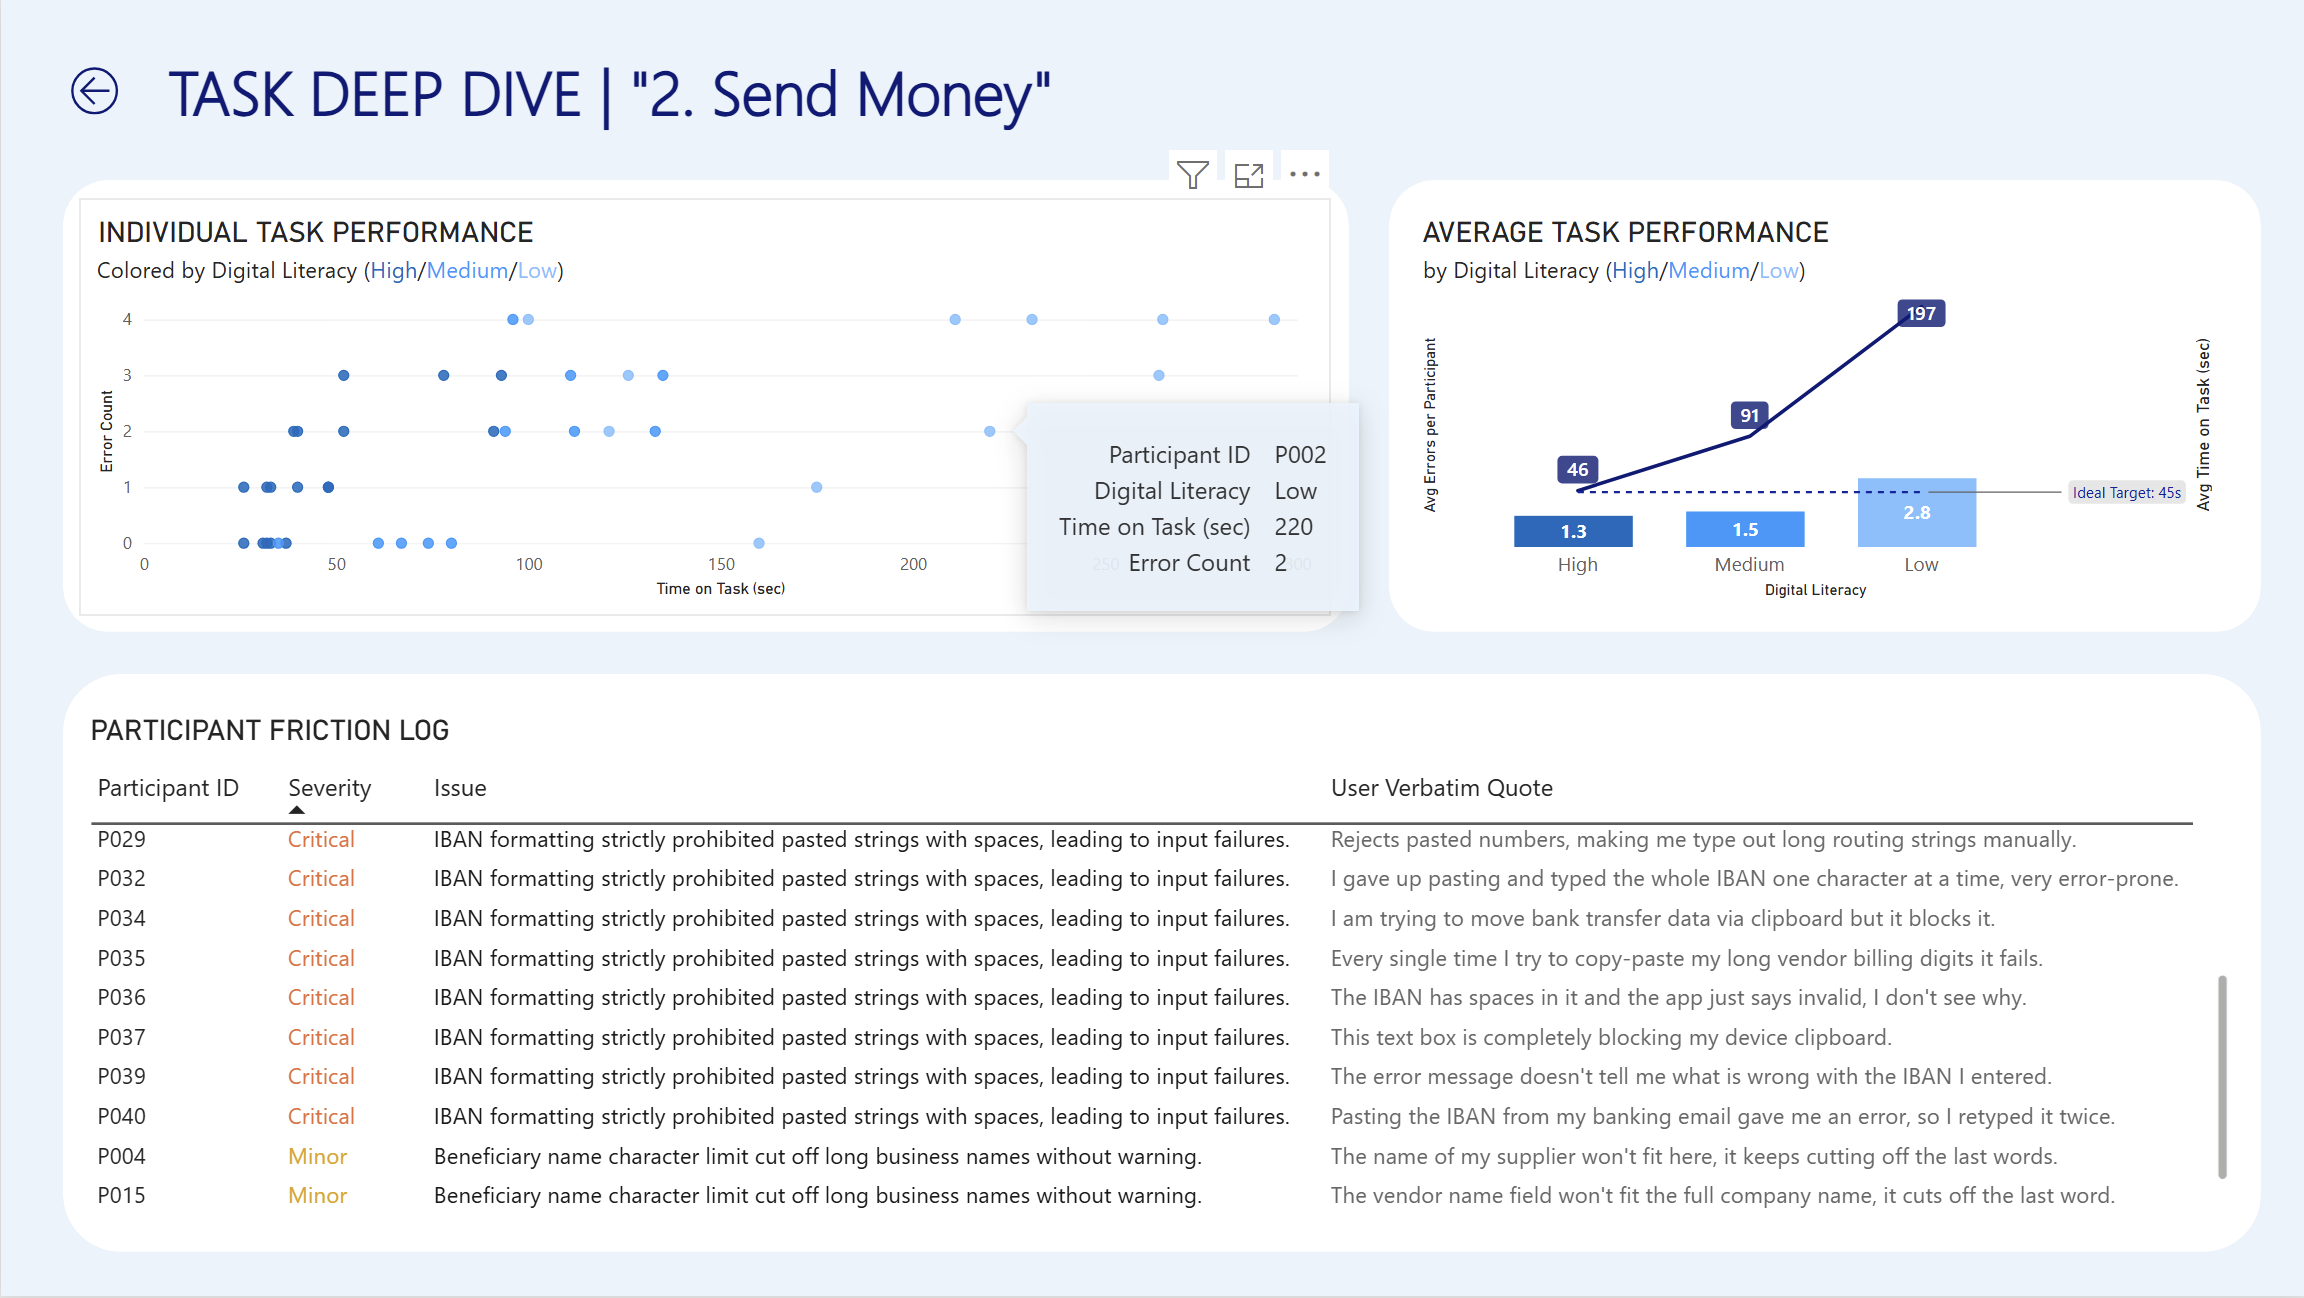

The page's visual inventory and layout, read from the dashboard file:
{"tool":"powerbi","page":{"name":"Task Deep Dive","canvas":[1920,1080],"ordinal":1},"visuals":[{"type":"actionButton","box":[0,32,156,88],"z":0},{"type":"cardVisual","fields":{"Data":["task_performance.dynamic_title_page_2"]},"box":[122.5,0,1683.3,150],"z":1000},{"type":"shape","box":[1156.7,150,726.7,376.7],"z":2000},{"type":"shape","box":[51.7,150,1071.7,376.7],"z":3000},{"type":"scatterChart","title":"INDIVIDUAL TASK PERFORMANCE","fields":{"Category":["participants.participant_id"],"Series":["participants.tech_literacy"],"X":["Avg(task_performance.time_on_task_sec)"],"Y":["Sum(task_performance.error_count)"]},"box":[65,165,1043.3,348.3],"z":4000},{"type":"shape","box":[51.7,561.7,1831.7,481.7],"z":5000},{"type":"tableEx","title":"PARTICIPANT FRICTION LOG","fields":{"Values":["participants.participant_id","qualitative_insights.severity","qualitative_insights.issue_description","qualitative_insights.user_quote"]},"box":[58.3,580,1813.3,451.7],"z":6000},{"type":"textbox","box":[80,211.7,698.6,48.6],"z":7000},{"type":"lineStackedColumnComboChart","title":"AVERAGE TASK PERFORMANCE","fields":{"Category":["participants.tech_literacy"],"Y":["task_performance.avg_errors_per_participant"],"Y2":["Avg(task_performance.time_on_task_sec)","task_performance.ideal_target_p2"]},"box":[1168.3,165,690,348.3],"z":8000},{"type":"textbox","box":[1185,211,698.3,37.4],"z":9000}]}

Visuals, with their boxes in screenshot pixels (x1, y1, x2, y2), scaled from the page's 1920x1080 canvas onto the 2304x1298 screenshot:
actionButton: <box>0,38,187,144</box>
cardVisual - task_performance.dynamic_title_page_2: <box>147,0,2167,180</box>
shape: <box>1388,180,2260,633</box>
shape: <box>62,180,1348,633</box>
"INDIVIDUAL TASK PERFORMANCE" scatterChart: <box>78,198,1330,617</box>
shape: <box>62,675,2260,1254</box>
"PARTICIPANT FRICTION LOG" tableEx: <box>70,697,2246,1240</box>
textbox: <box>96,254,934,313</box>
"AVERAGE TASK PERFORMANCE" lineStackedColumnComboChart: <box>1402,198,2230,617</box>
textbox: <box>1422,254,2260,299</box>
